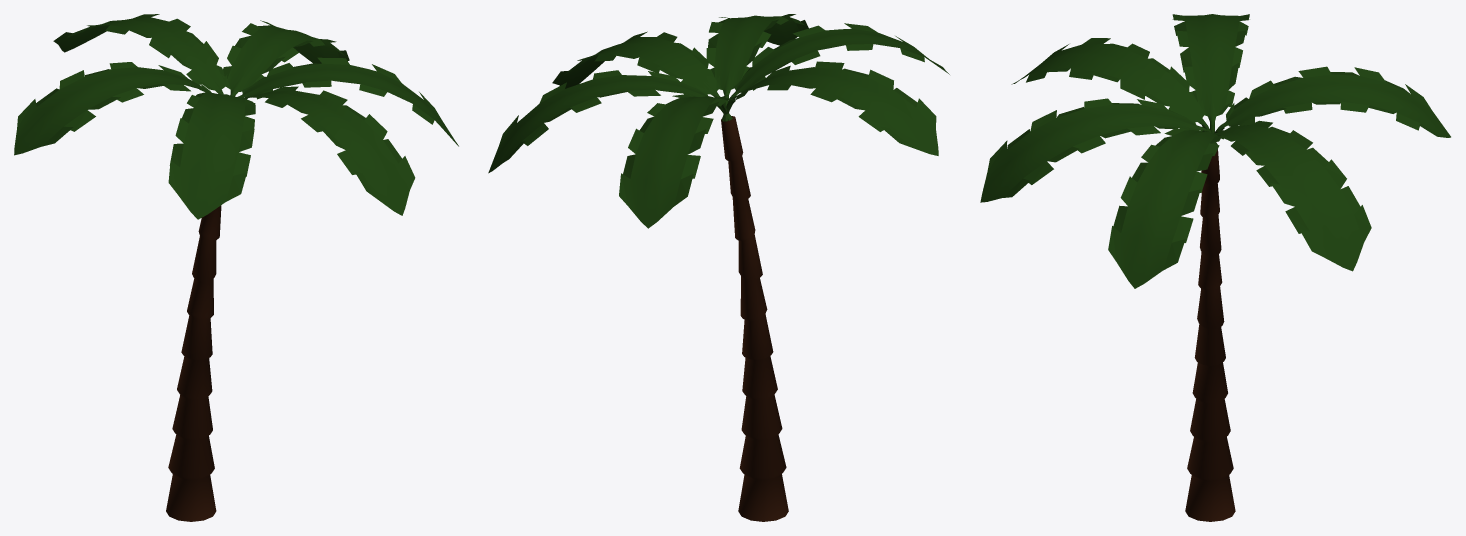
Rendered from Palm Tree_002.fbx.
3 renders of one model, left to right at view 1: azimuth 30°, elevation 25°; view 2: azimuth 150°, elevation 25°; view 3: azimuth 270°, elevation 25°, orthographic.
Parts seen in each view (by area): view 1: PalmTree_LOD0; view 2: PalmTree_LOD0; view 3: PalmTree_LOD0.
Part boxes in pixels (x1,y1,x2,y2): PalmTree_LOD0: (14, 14, 458, 521); PalmTree_LOD0: (488, 14, 949, 521); PalmTree_LOD0: (980, 14, 1450, 521).
Size of what is drawn, in the model's own units: 96.96 by 103 by 97.4.
